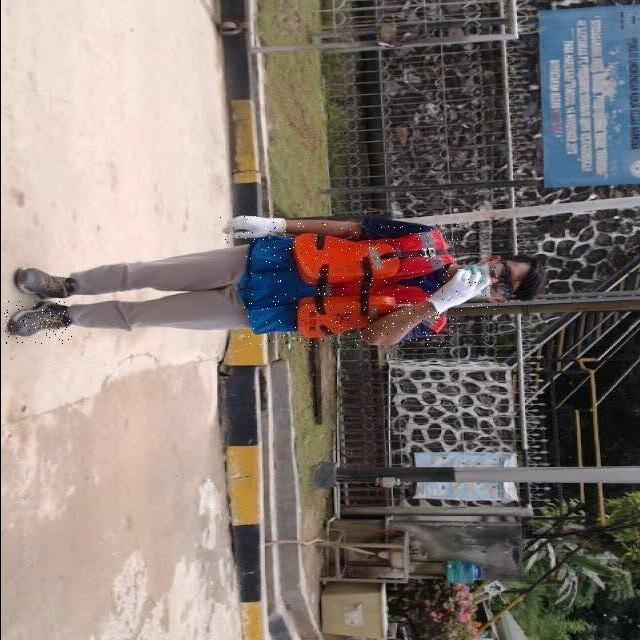boots: (3, 300, 72, 344), (12, 261, 76, 302)
vest: (243, 223, 457, 348)
